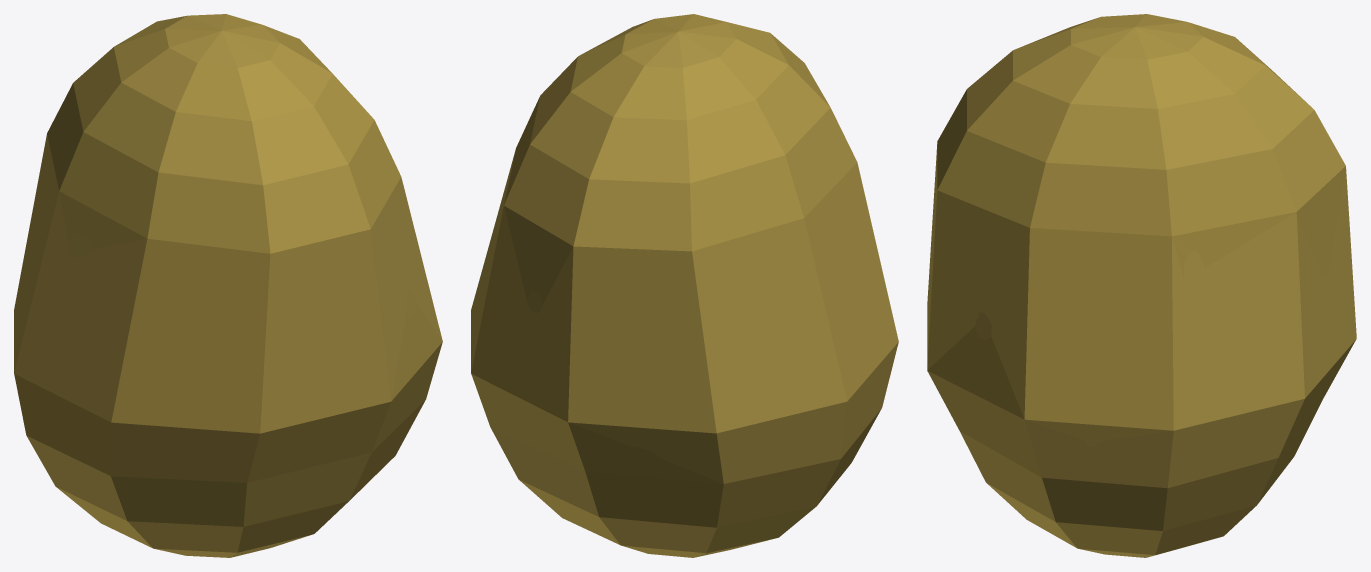
File: Item_Potato.fbx
3 renders of one model, left to right at view 1: azimuth 30°, elevation 25°; view 2: azimuth 150°, elevation 25°; view 3: azimuth 270°, elevation 25°, orthographic.
Visible parts, largest first — view 1: Sphere; view 2: Sphere; view 3: Sphere.
Boxes of the visible parts, x1,y1,x2,y2 form: Sphere: (14,14,442,557); Sphere: (471,14,898,557); Sphere: (927,14,1356,557).
Size of the model in its own units: 197 by 255 by 194.
